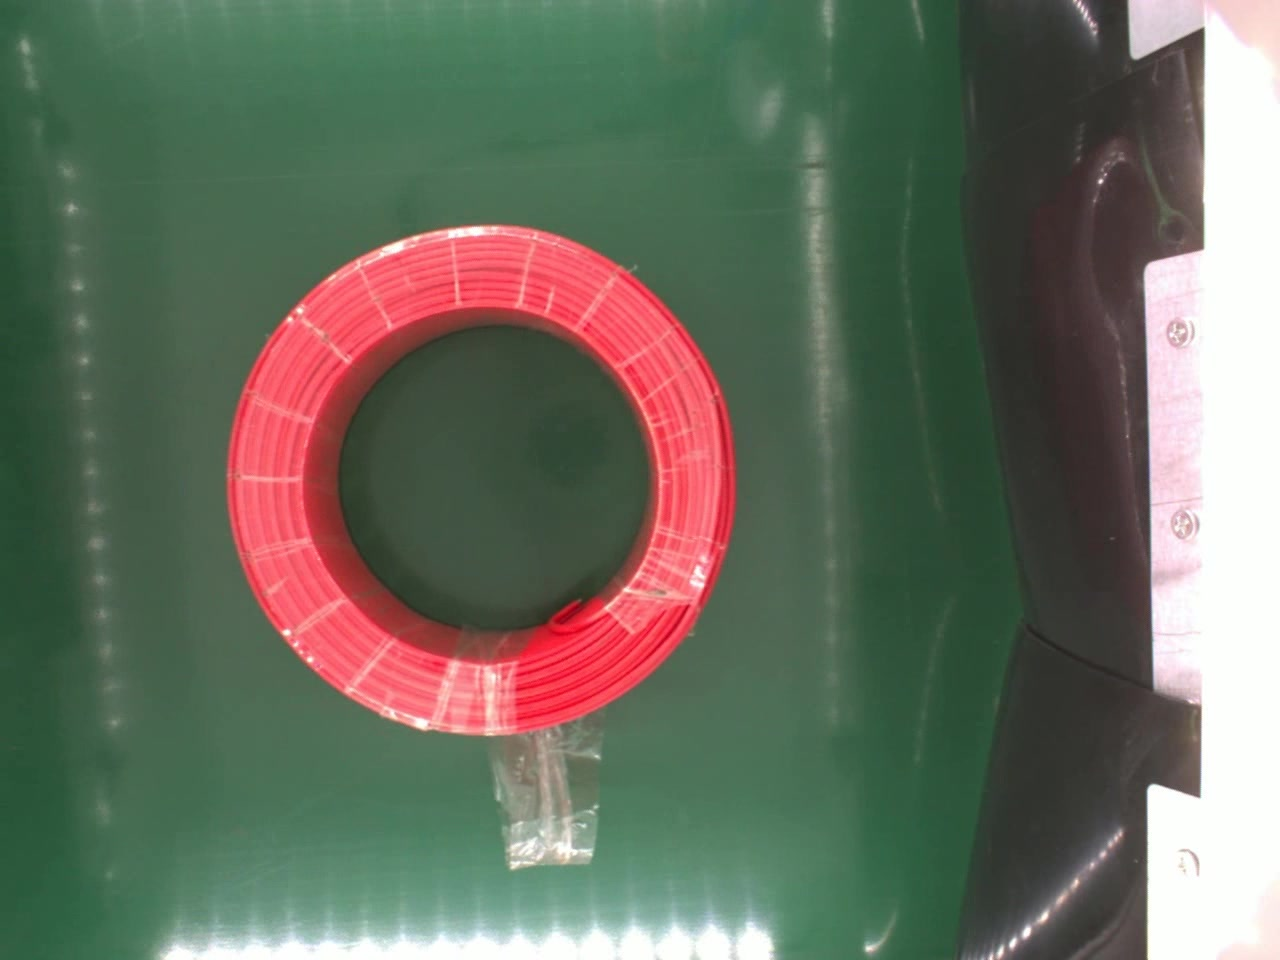red: (216, 215, 745, 739)
